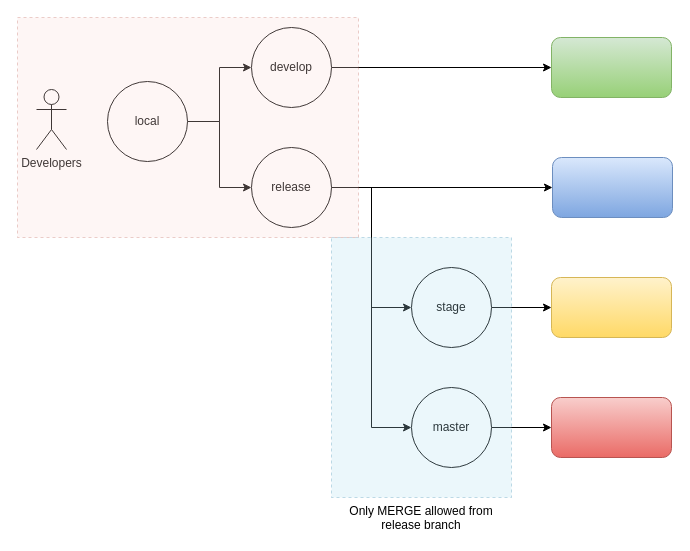
This 690x551 diagram has some shape labels left out. Here are the shapes that lost their labels. From the top down, the centre of each, then its label:
[611,67]: DEV
[612,187]: QA
[611,307]: STG
[611,427]: PRD
